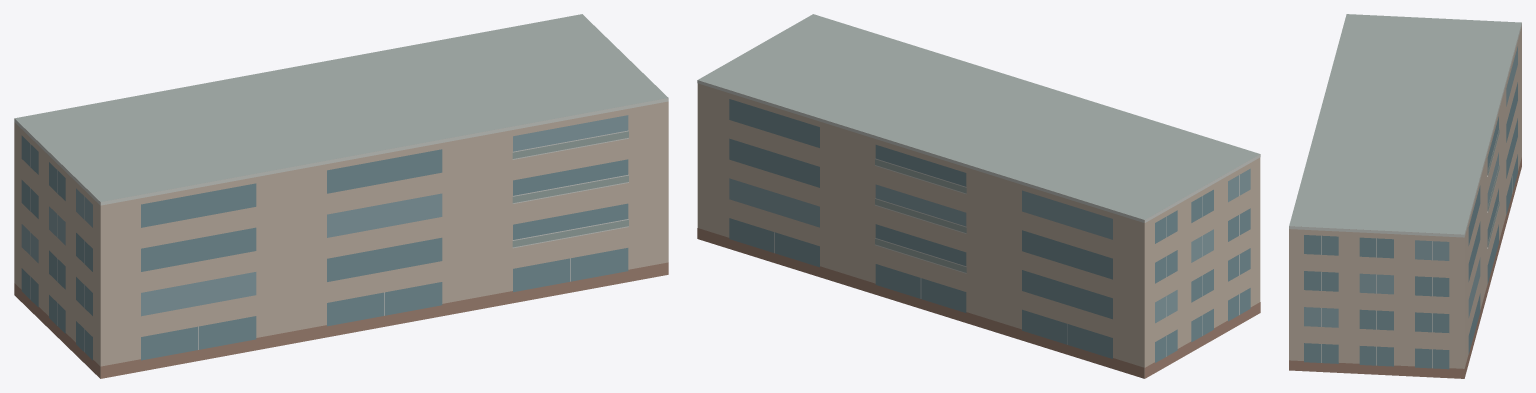
The model's file is residential-e15ea0ac-d574-495b-99b9-d4d0b6405c05.glb.
The picture shows the model from 3 angles, left to right: view 1: azimuth 30°, elevation 25°; view 2: azimuth 150°, elevation 25°; view 3: azimuth 270°, elevation 25°; orthographic projection. The views are drawn at different scales.
Parts seen in each view (by area): view 1: residential-e15ea0ac-d574-495b-99b9-d4d0b6405c05.tmp; view 2: residential-e15ea0ac-d574-495b-99b9-d4d0b6405c05.tmp; view 3: residential-e15ea0ac-d574-495b-99b9-d4d0b6405c05.tmp.
Part boxes in pixels (<box>): residential-e15ea0ac-d574-495b-99b9-d4d0b6405c05.tmp: <box>14,14,668,378</box>; residential-e15ea0ac-d574-495b-99b9-d4d0b6405c05.tmp: <box>697,14,1260,378</box>; residential-e15ea0ac-d574-495b-99b9-d4d0b6405c05.tmp: <box>1289,14,1521,378</box>.
Bounding box in the file's own units: 40.03 × 12.2 × 17.86.
